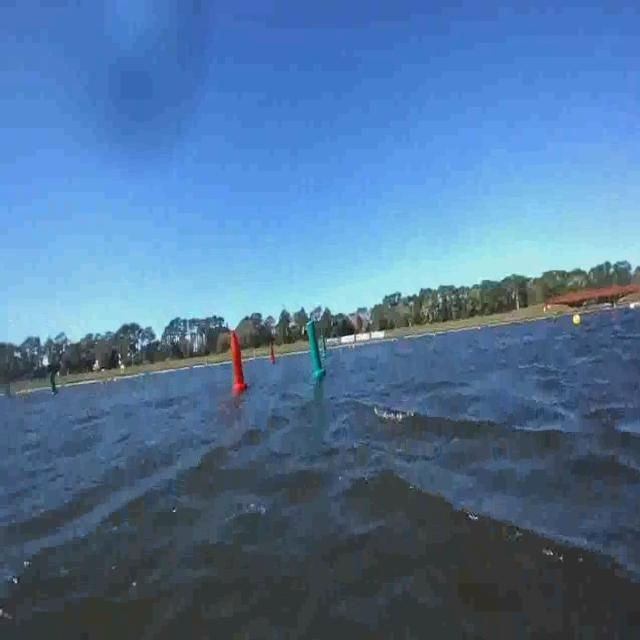green-column-buoy: (306, 322, 321, 380), (50, 366, 61, 395), (4, 378, 15, 400), (319, 336, 328, 360)
red-column-buoy: (230, 332, 249, 393), (270, 344, 278, 365)
yellow-buoy: (571, 312, 581, 328)
